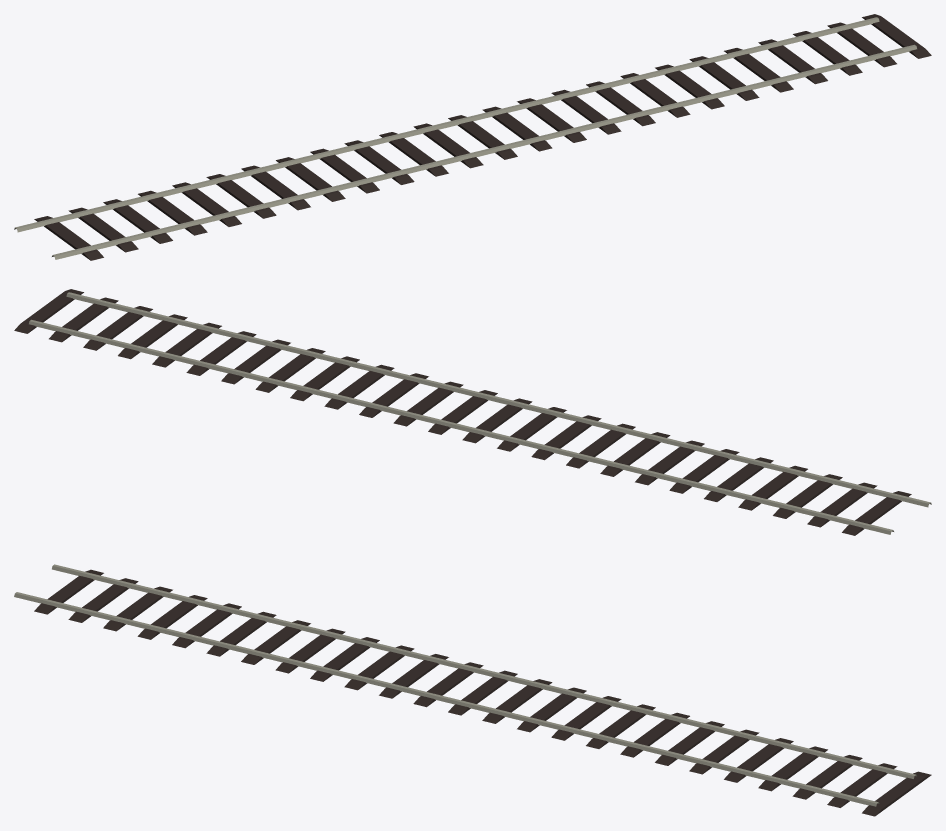
File: rails.fbx
The picture shows the model from 3 angles, top to bottom: view 1: azimuth 30°, elevation 25°; view 2: azimuth 150°, elevation 25°; view 3: azimuth 330°, elevation 25°; orthographic projection.
Parts seen in each view (by area): view 1: rails; view 2: rails; view 3: rails.
Boxes of the visible parts, left/top/right/bottom form: rails: left=14, top=14, right=931, bottom=260; rails: left=14, top=289, right=931, bottom=535; rails: left=14, top=564, right=931, bottom=816.
Size of the model in its own units: 2016 by 10.95 by 229.
